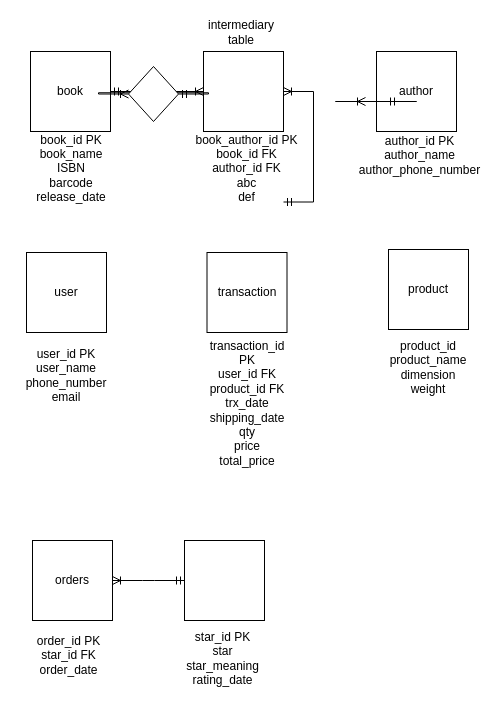
Some shapes in this 497 by 727 pixel diagram are drawn without their labels. The box of each missing label's shape, as (x1, y1, x2, y2) in pixels:
book_author: (202, 50, 284, 132)
star: (184, 540, 264, 620)
